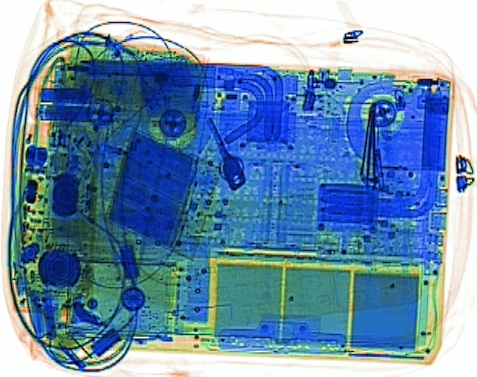powerbank: (99, 125, 224, 262)
